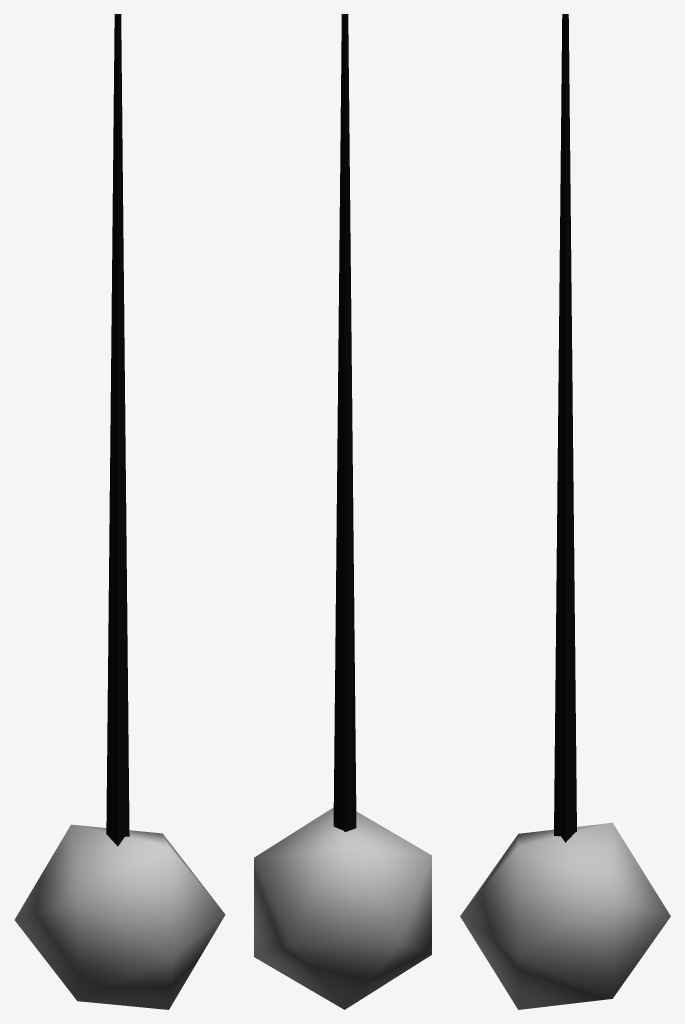
The model's file is LampSphere_White.fbx.
3 views of the same model, side by side, from view 1: azimuth 30°, elevation 25°; view 2: azimuth 150°, elevation 25°; view 3: azimuth 270°, elevation 25° (orthographic).
Parts seen in each view (by area): view 1: LampSphere_White; view 2: LampSphere_White; view 3: LampSphere_White.
Part boxes in pixels (<box>): LampSphere_White: <box>14,14,225,1009</box>; LampSphere_White: <box>254,14,431,1009</box>; LampSphere_White: <box>460,14,670,1009</box>.
Size of the model in its own units: 21.11 by 121 by 23.61.
